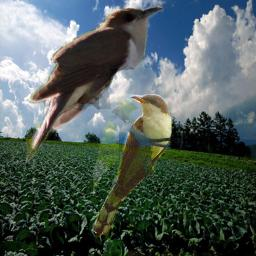Cuckoo: (26, 4, 164, 168), (93, 94, 172, 238)
